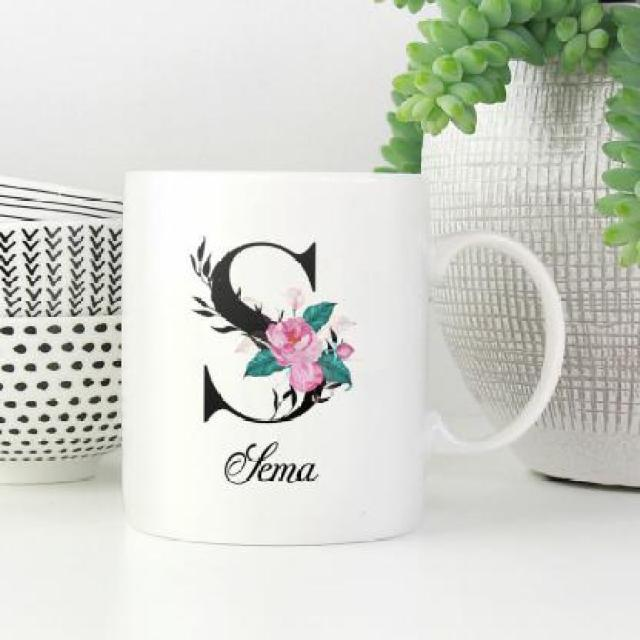taza: (78, 150, 576, 556)
